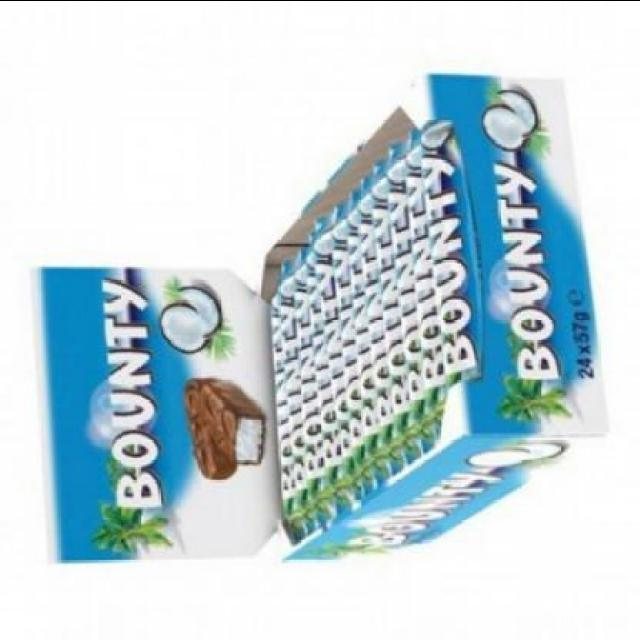Chocolate bar: (417, 108, 481, 406)
